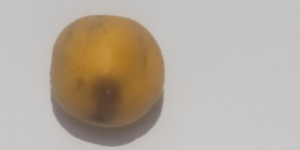BAD: (47, 11, 167, 136)
